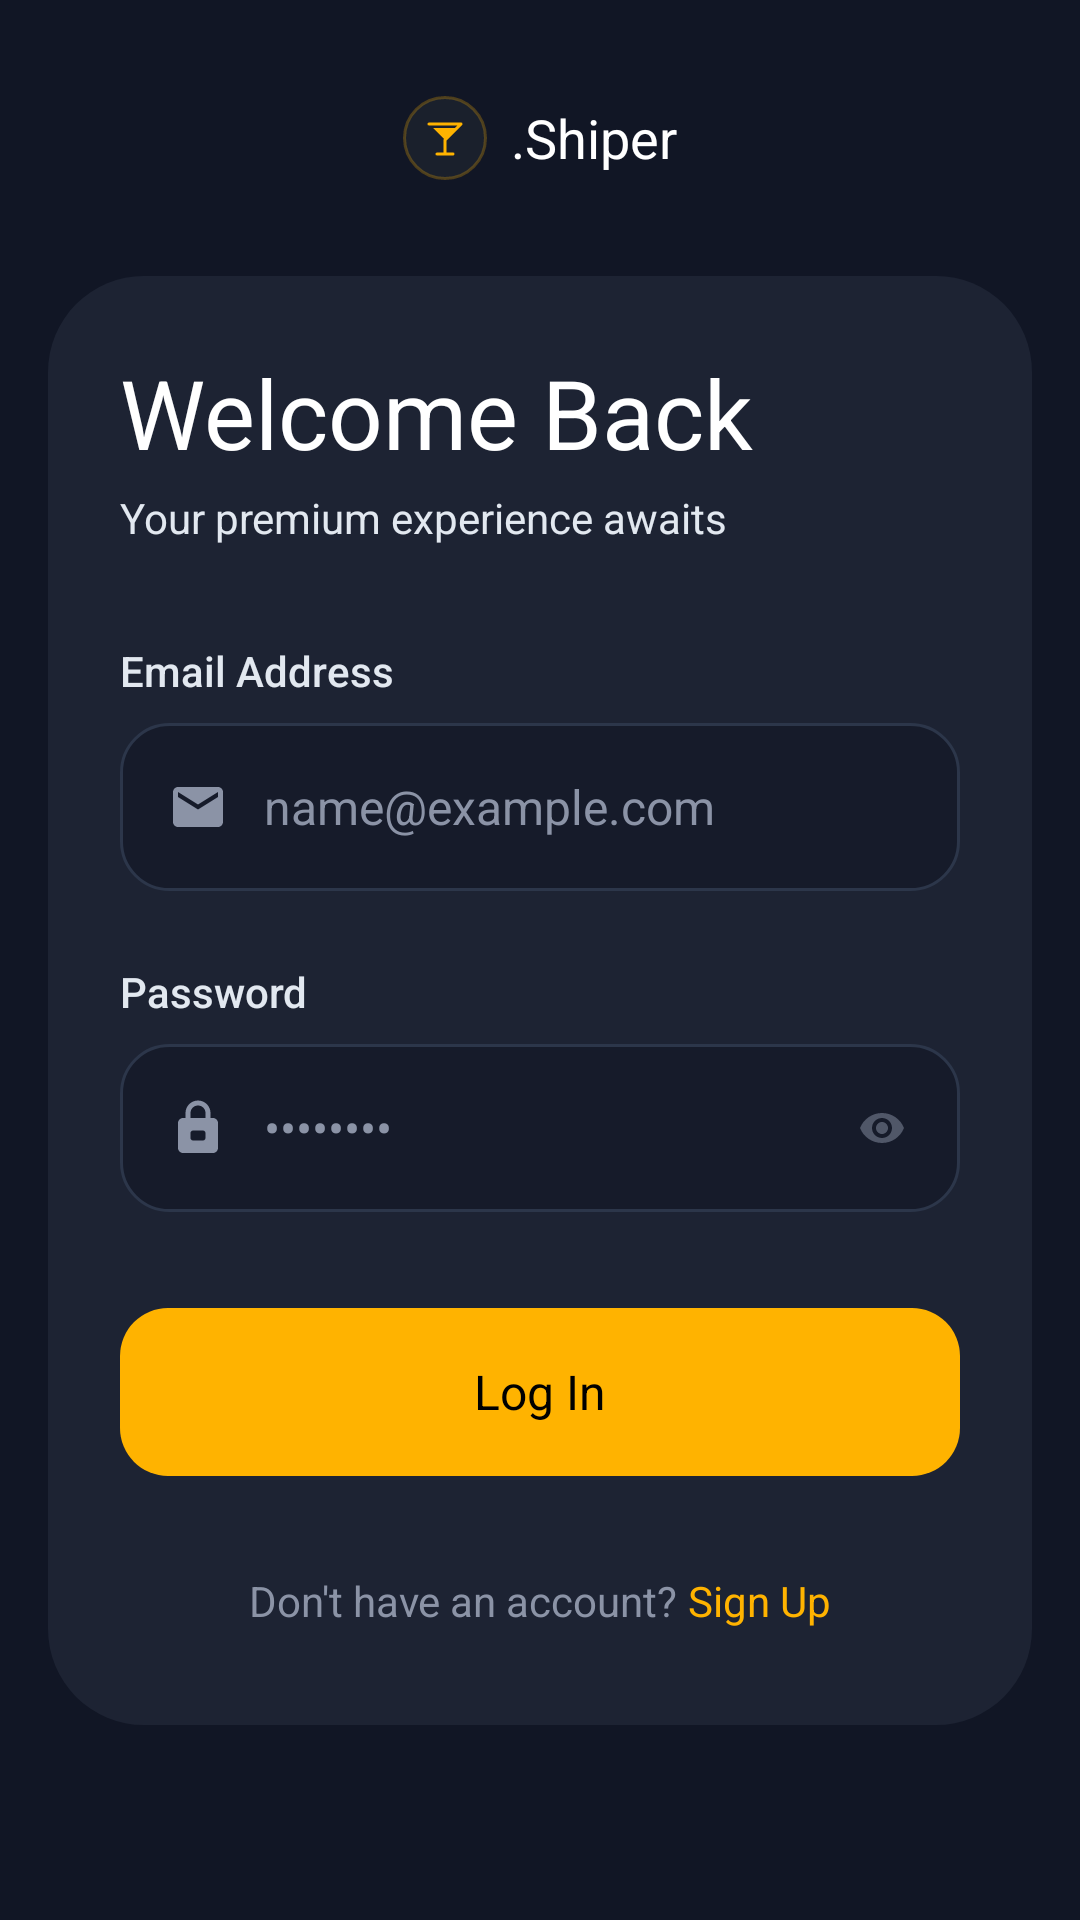

Screen size 1080px x 1920px. Icon name, then its box in pixels as (x1, y1, x2, y2):
cocktail gold: (427, 122, 463, 156)
eye: (860, 1113, 904, 1143)
lock: (178, 1100, 218, 1153)
